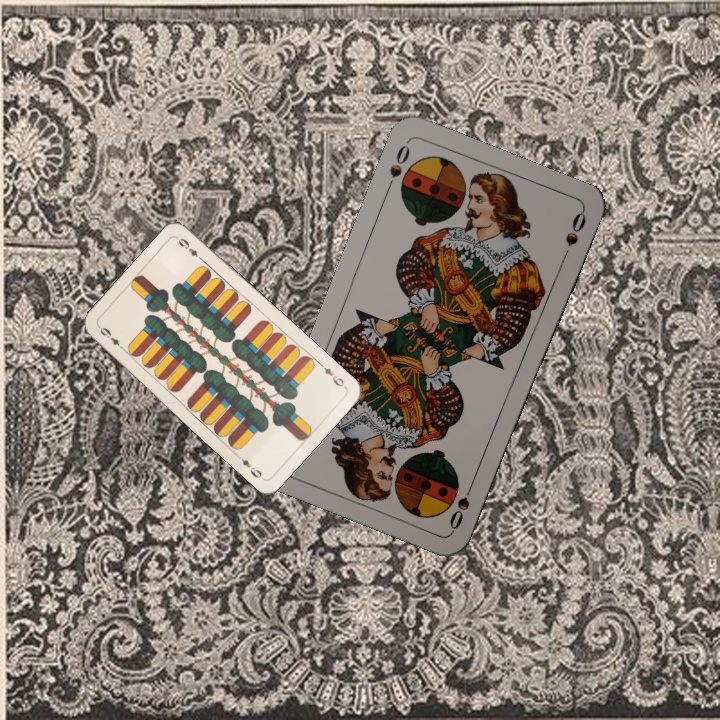E9: (315, 359, 348, 391), (95, 322, 128, 353)
SO: (445, 476, 477, 533), (382, 138, 413, 195)
